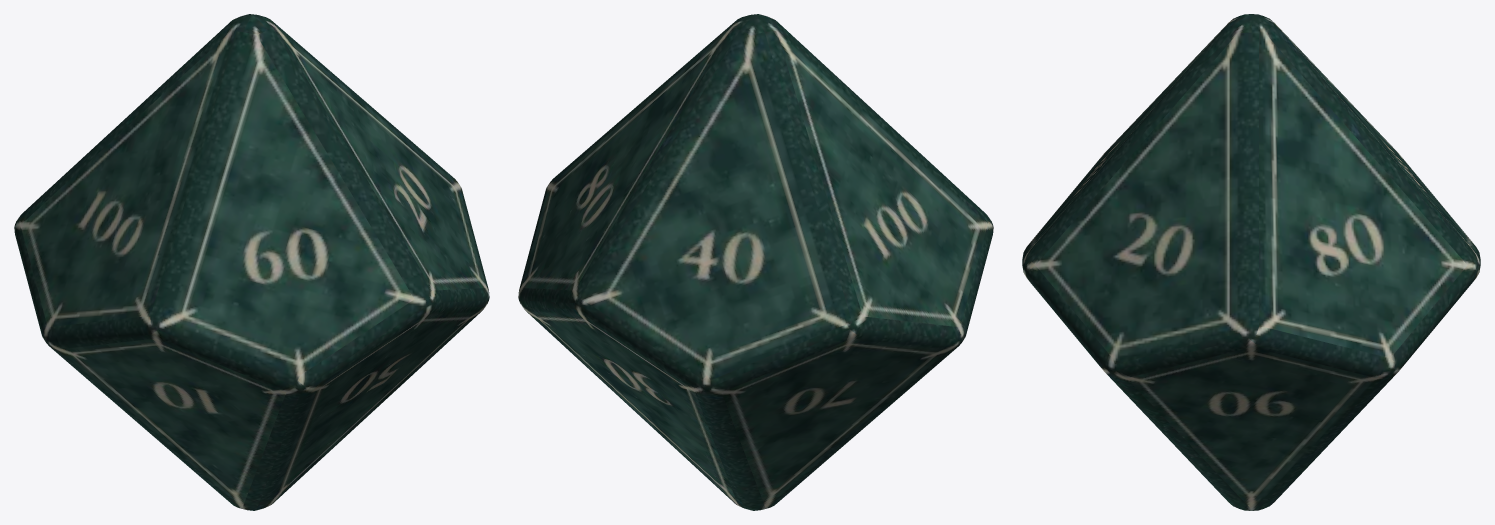
Rendered from argonian-d100.glb.
The picture shows the model from 3 angles, left to right: view 1: azimuth 30°, elevation 25°; view 2: azimuth 150°, elevation 25°; view 3: azimuth 270°, elevation 25°; orthographic projection.
Visible parts, largest first — view 1: argonian_d100; view 2: argonian_d100; view 3: argonian_d100.
Part boxes in pixels (<box>): argonian_d100: <box>14,14,489,510</box>; argonian_d100: <box>518,14,993,510</box>; argonian_d100: <box>1022,14,1480,510</box>.
Bounding box in the file's own units: 1.66 × 1.91 × 1.59.
1 material, 1 textured.
